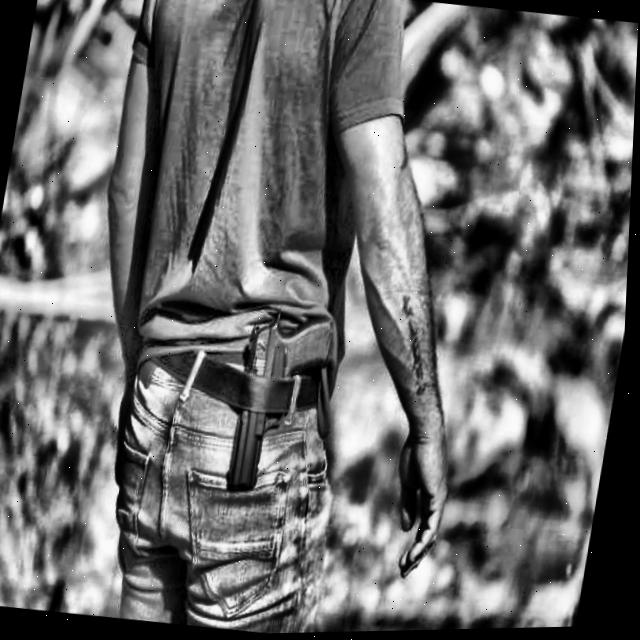pistol: (217, 312, 341, 509)
